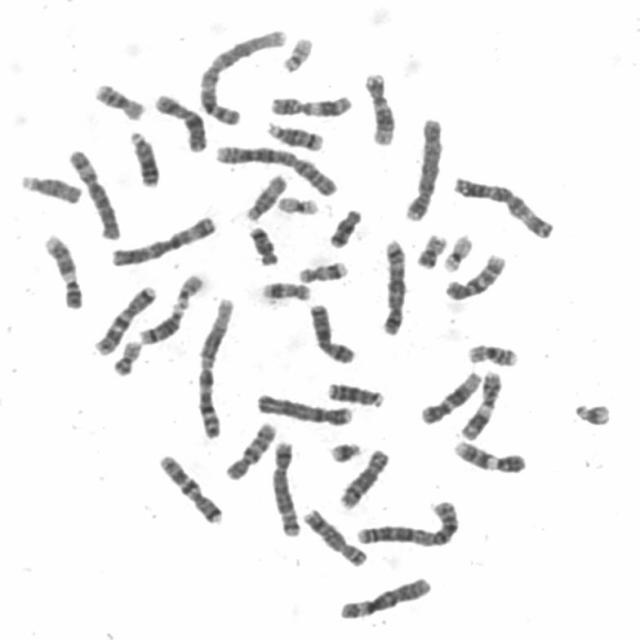A1: (192, 23, 290, 127), (191, 291, 238, 441)
A2: (209, 138, 340, 198), (350, 495, 460, 549)
A3: (447, 169, 557, 240), (105, 210, 220, 268)
B4: (399, 111, 445, 223), (251, 387, 355, 428)
B5: (265, 434, 304, 538), (375, 233, 409, 336)
C10: (220, 416, 279, 482), (439, 247, 509, 302)
C11: (454, 364, 504, 442), (264, 88, 354, 118)
C12: (416, 365, 484, 426), (359, 67, 398, 147)
C6: (63, 143, 122, 241), (334, 571, 433, 621)
C7: (153, 448, 225, 526), (89, 280, 158, 356)
C8: (297, 502, 369, 568), (333, 443, 391, 511)
C9: (38, 227, 85, 311), (448, 434, 528, 474)
D13: (123, 124, 162, 189), (322, 376, 387, 409)
D14: (133, 299, 188, 346), (260, 115, 326, 153)
D15: (240, 168, 290, 222), (16, 168, 84, 205)
E16: (89, 76, 147, 122), (462, 338, 520, 368)
E17: (293, 256, 350, 284), (256, 276, 313, 302)
E18: (323, 202, 364, 250), (243, 220, 281, 267)
F19: (437, 228, 475, 273), (272, 190, 322, 216)
F20: (411, 228, 449, 270), (107, 335, 144, 377)
G21: (568, 396, 614, 427), (323, 436, 364, 464)
G22: (277, 32, 315, 73), (170, 268, 206, 307)
X: (149, 88, 210, 154), (304, 298, 358, 365)
